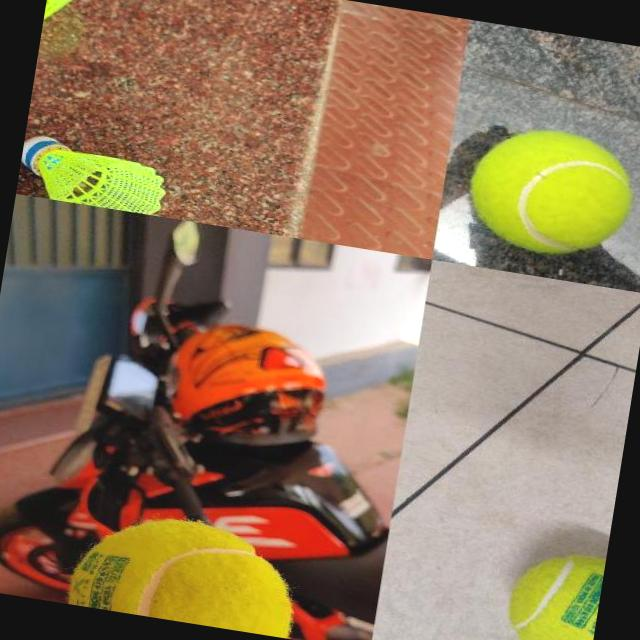tennis-ball: (66, 504, 304, 638), (461, 118, 640, 266), (499, 544, 605, 640)
